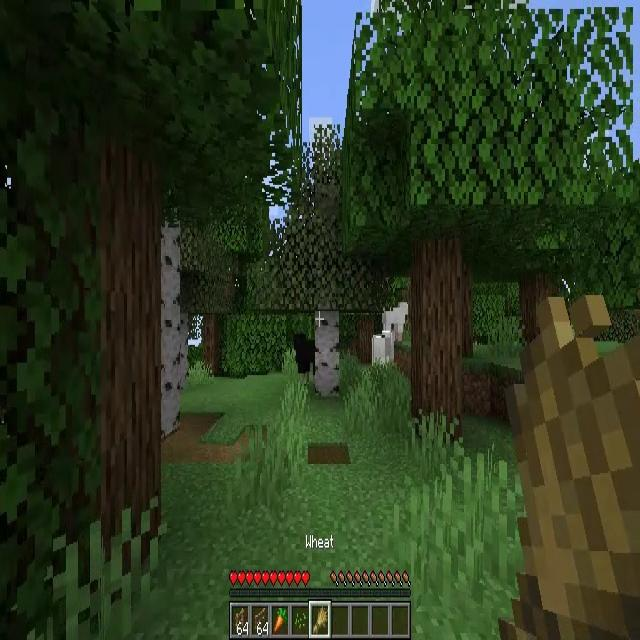sheep: (383, 302, 409, 342), (373, 335, 385, 370), (385, 332, 394, 367)
